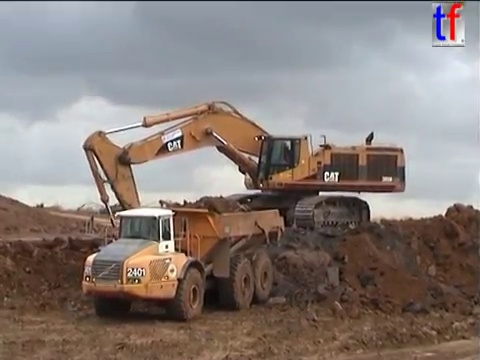excavator: (80, 98, 409, 249)
truck: (79, 203, 287, 321)
